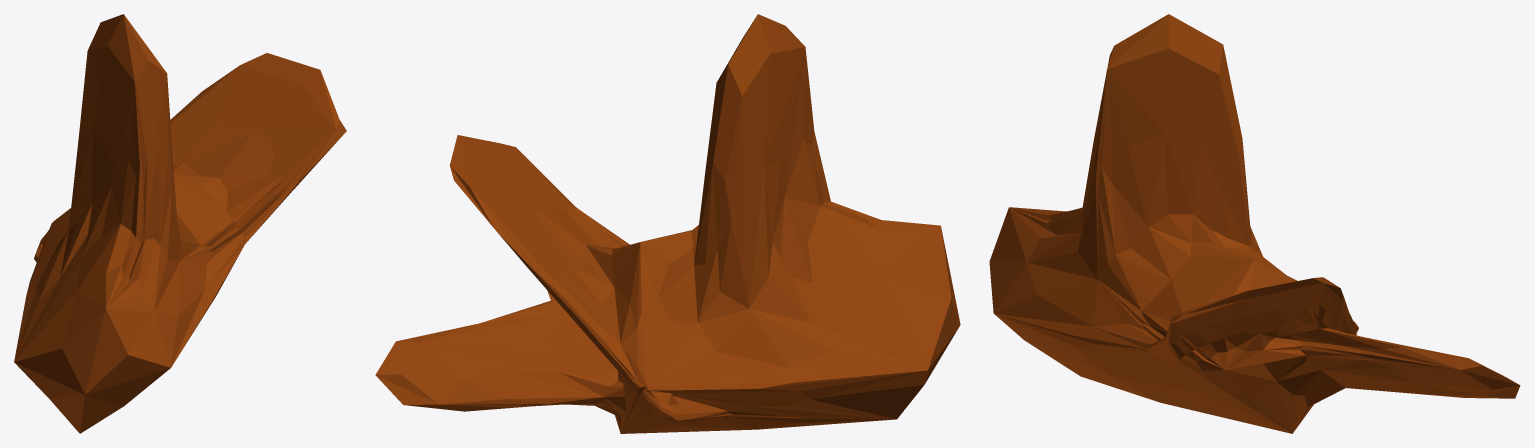
3 renders of one model, left to right at view 1: azimuth 30°, elevation 25°; view 2: azimuth 150°, elevation 25°; view 3: azimuth 270°, elevation 25°, orthographic. The views are drawn at different scales.
Parts seen in each view (by area): view 1: 775_Cube.3122; view 2: 775_Cube.3122; view 3: 775_Cube.3122.
Part boxes in pixels (bbox=[...]): 775_Cube.3122: bbox=[14, 14, 346, 433]; 775_Cube.3122: bbox=[375, 14, 960, 433]; 775_Cube.3122: bbox=[989, 14, 1520, 433].
Bounding box in the file's own units: 14.8 × 14.43 × 17.05.
